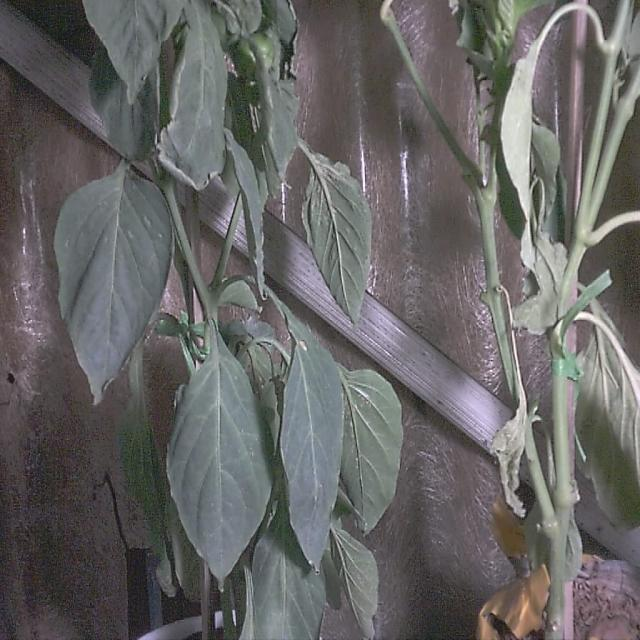Leaf: (53, 176, 174, 405), (163, 348, 275, 588), (276, 314, 346, 574), (299, 152, 372, 324)
